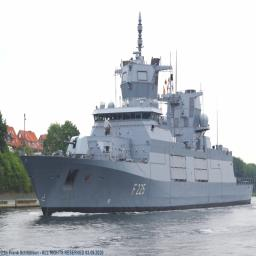Fragata: (21, 15, 256, 218)
